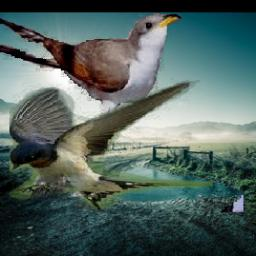Crow: (206, 117, 243, 212)
Cuckoo: (0, 12, 180, 122)
Swallow: (9, 78, 213, 209)
